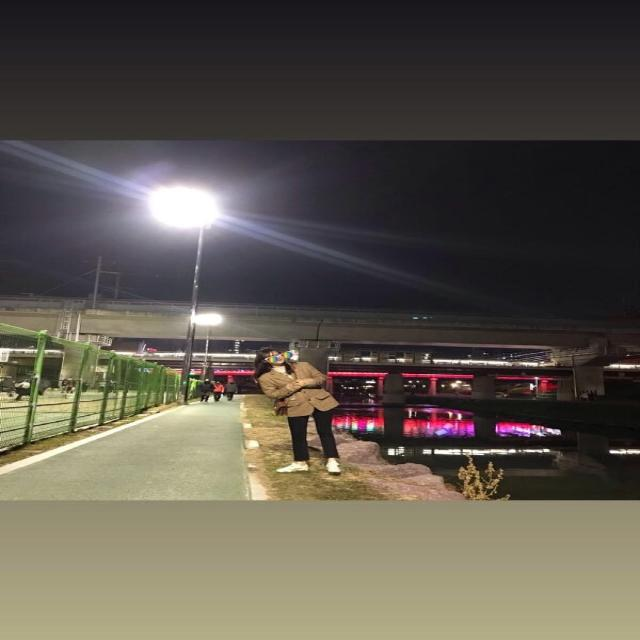blazer: (252, 363, 338, 416)
denimpants: (292, 400, 340, 462)
